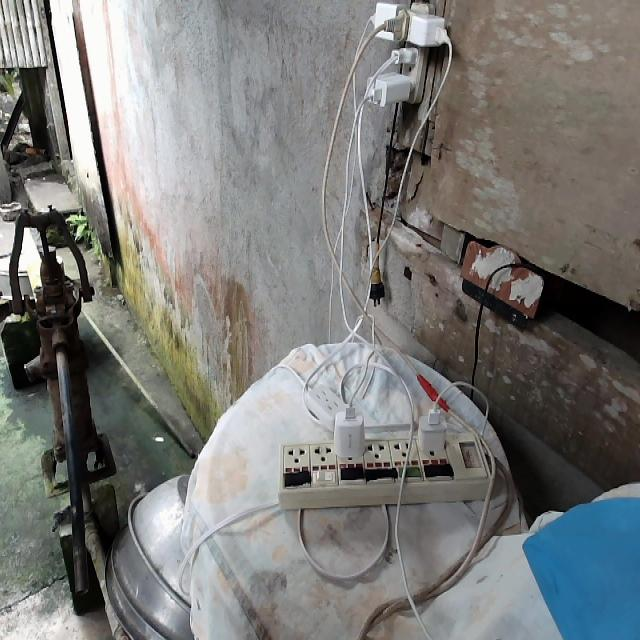-: (361, 0, 454, 111)
